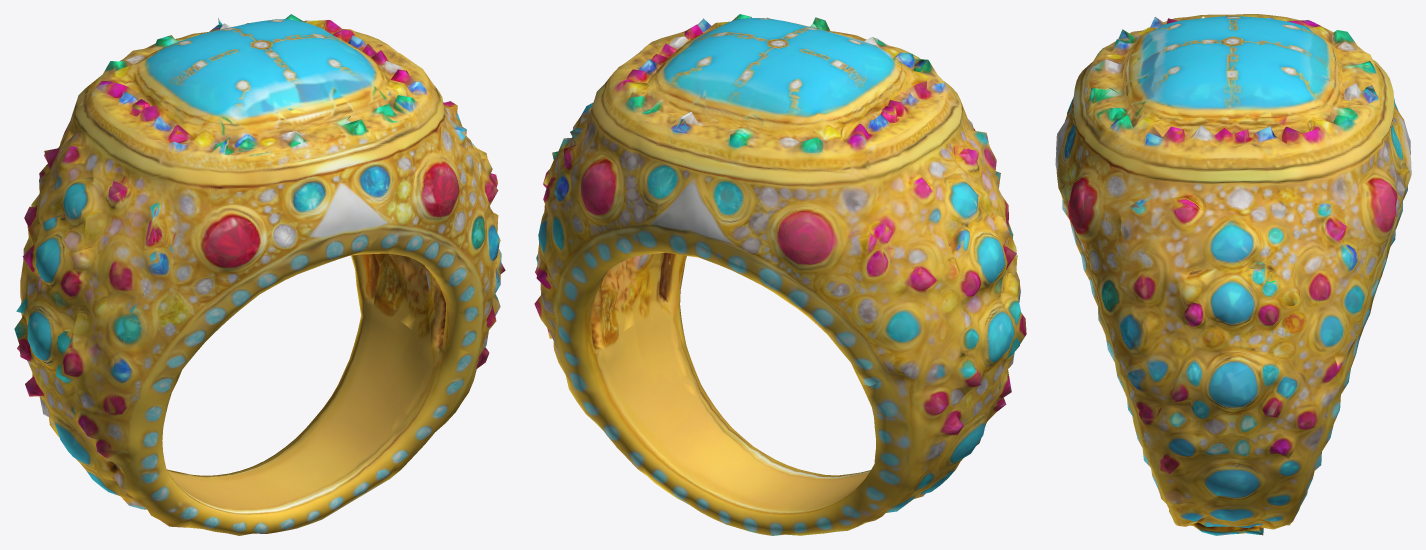
3 renders of one model, left to right at view 1: azimuth 30°, elevation 25°; view 2: azimuth 150°, elevation 25°; view 3: azimuth 270°, elevation 25°, orthographic.
Bounding box in the file's own units: 1.98 × 1.98 × 1.36.
Materials: 1 (1 with a texture image).
